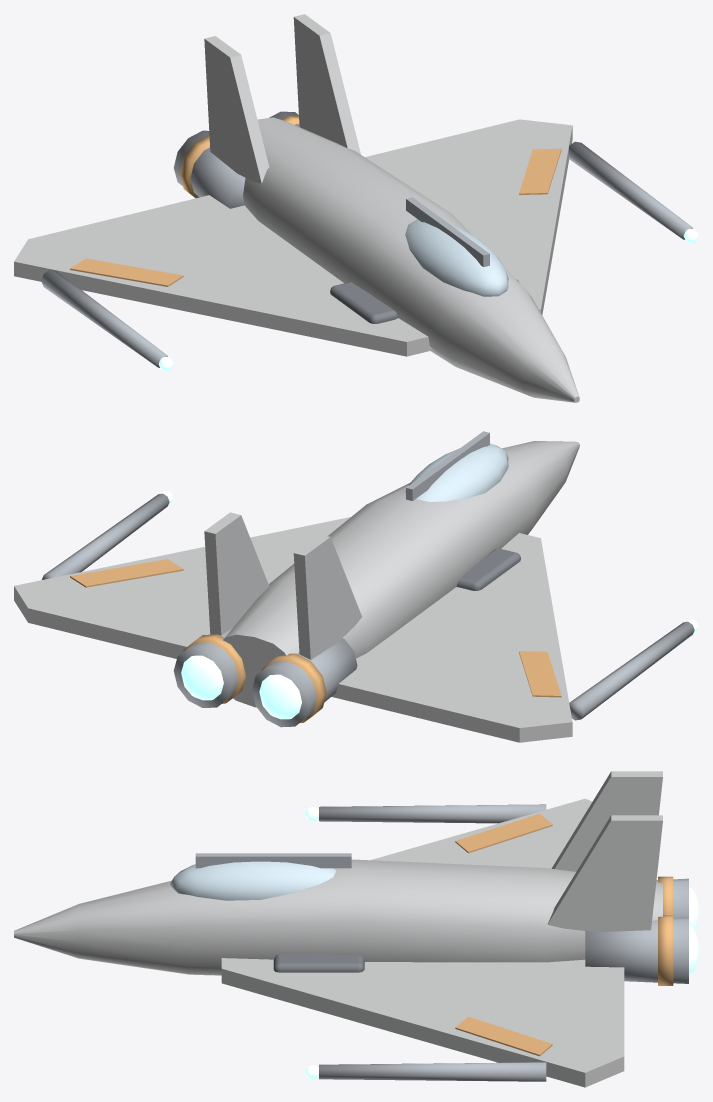
The model's file is h_fighter.glb.
The picture shows the model from 3 angles, top to bottom: view 1: azimuth 30°, elevation 25°; view 2: azimuth 150°, elevation 25°; view 3: azimuth 270°, elevation 25°; orthographic projection.
Visible parts, largest first — view 1: hull, metal, canopy, paint; view 2: hull, metal, paint, canopy, glow; view 3: hull, metal, canopy, paint, glow.
Boxes of the visible parts, x1,y1,x2,y2 form: hull: (14,14,579,402); metal: (41,111,693,367); canopy: (405,219,508,296); paint: (70,115,561,286); hull: (14,441,579,742); metal: (41,431,694,727); paint: (70,559,561,722); canopy: (405,443,508,501); glow: (160,491,698,719); hull: (14,771,662,1087); metal: (195,804,688,1081); canopy: (170,861,335,900); paint: (455,813,673,1056); glow: (305,807,698,1078).
Size of what is drawn, in the model's own units: 1 by 0.3 by 1.06.
